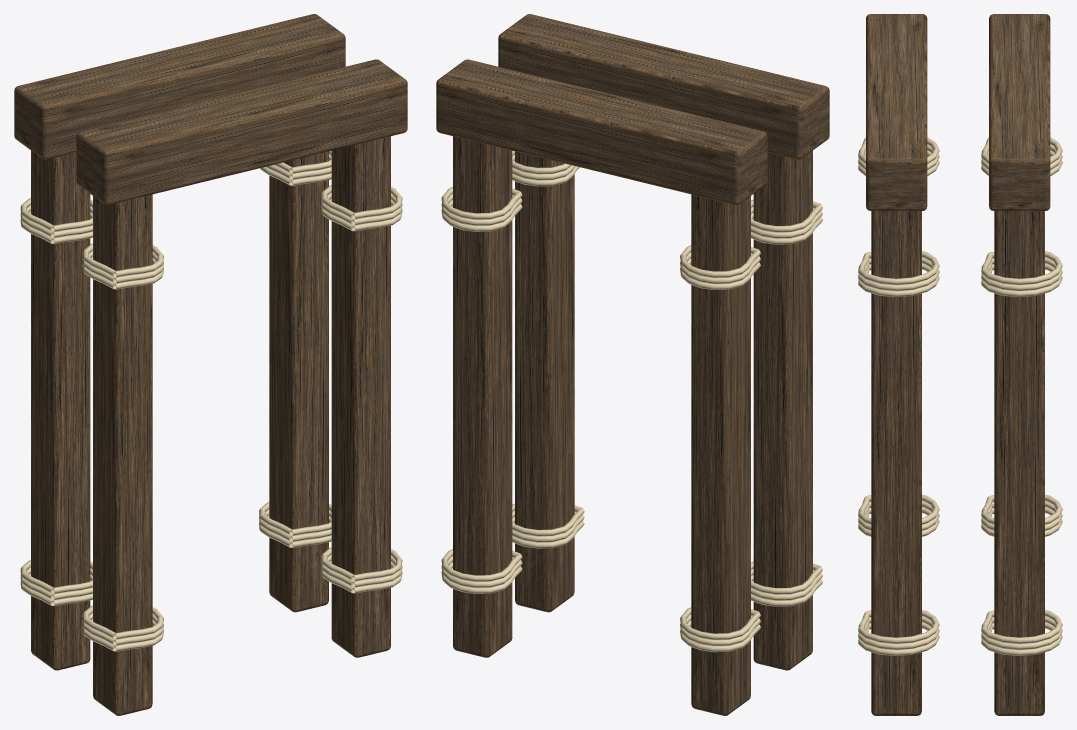
Rendered from fissure_braces.glb.
3 renders of one model, left to right at view 1: azimuth 30°, elevation 25°; view 2: azimuth 150°, elevation 25°; view 3: azimuth 270°, elevation 25°, orthographic.
Parts seen in each view (by area): view 1: fissure_braces_mesh; view 2: fissure_braces_mesh; view 3: fissure_braces_mesh.
Boxes of the visible parts, x1=… form: fissure_braces_mesh: x1=14, y1=14, x2=407, y2=715; fissure_braces_mesh: x1=436, y1=14, x2=829, y2=715; fissure_braces_mesh: x1=858, y1=14, x2=1062, y2=715.
Size of the model in its own units: 1.31 by 2.33 by 0.7652.
2 materials, 1 textured.
